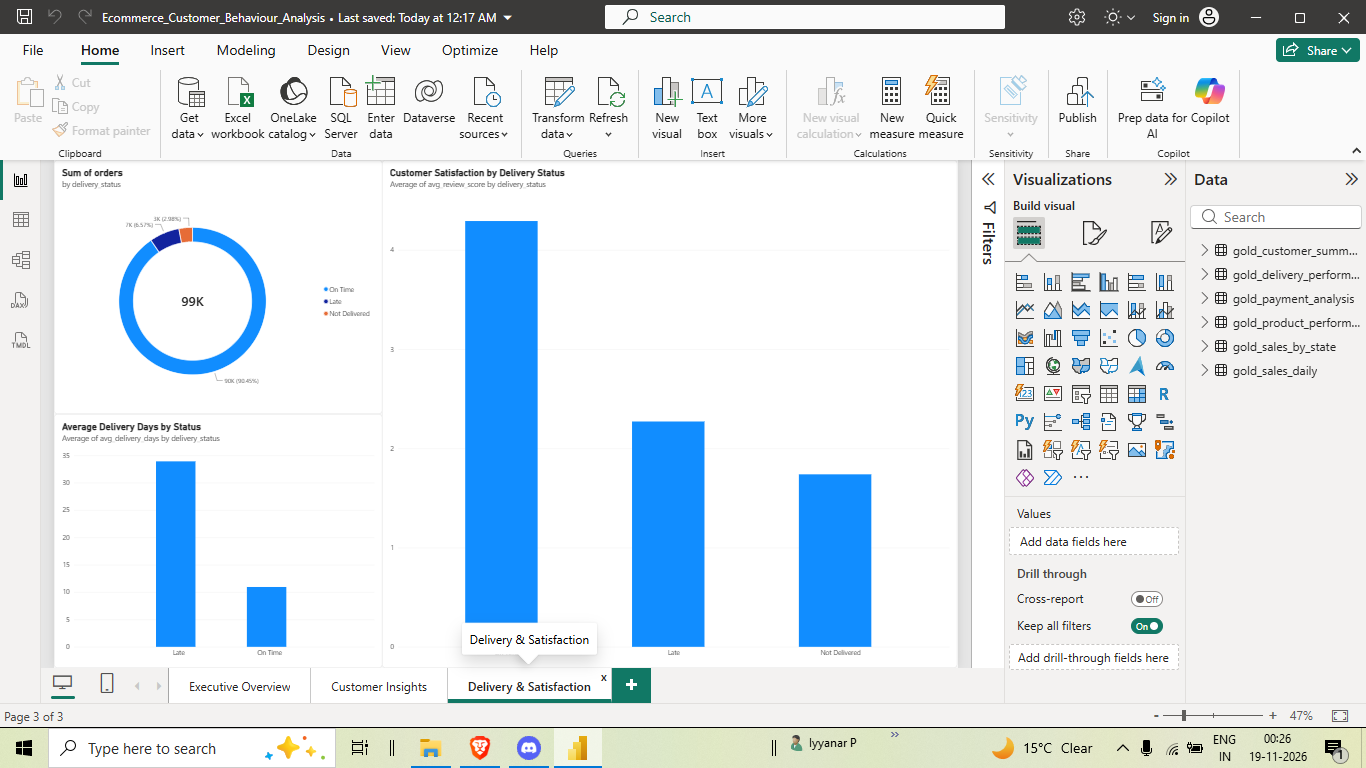

What the dashboard file says about the page in this screenshot:
{"tool":"powerbi","page":{"name":"Delivery & Satisfaction","canvas":[1920,1080],"ordinal":2},"visuals":[{"type":"clusteredColumnChart","title":"Average Delivery Days by Status","fields":{"Category":["gold_delivery_performance.delivery_status"],"Y":["Avg(gold_delivery_performance.avg_delivery_days)"]},"box":[0,540,697.5,540],"z":0},{"type":"donutChart","fields":{"Category":["gold_delivery_performance.delivery_status"],"Y":["Sum(gold_delivery_performance.orders)"]},"box":[0,0,698,540],"z":1000},{"type":"clusteredColumnChart","title":"Customer Satisfaction by Delivery Status","fields":{"Category":["gold_delivery_performance.delivery_status"],"Y":["Avg(gold_delivery_performance.avg_review_score)"]},"box":[697.5,0,1222.5,1080],"z":1001}]}

Visuals, with their boxes on the page's 1920x1080 design canvas (x1, y1, x2, y2). These are canvas units, not pixel positions in the 1366x768 screenshot, which may show the page scaled, cropped or inside an application window:
"Average Delivery Days by Status" clusteredColumnChart: box=[0, 540, 698, 1080]
donutChart - gold_delivery_performance.delivery_status x Sum(gold_delivery_performance.orders): box=[0, 0, 698, 540]
"Customer Satisfaction by Delivery Status" clusteredColumnChart: box=[698, 0, 1920, 1080]
